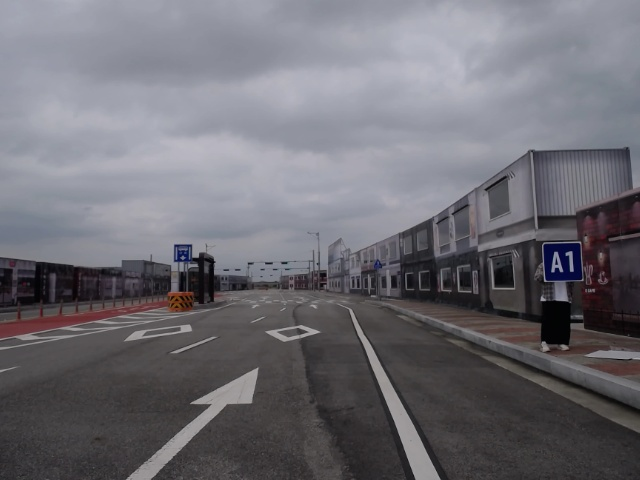delivery_a1: (542, 242, 584, 282)
